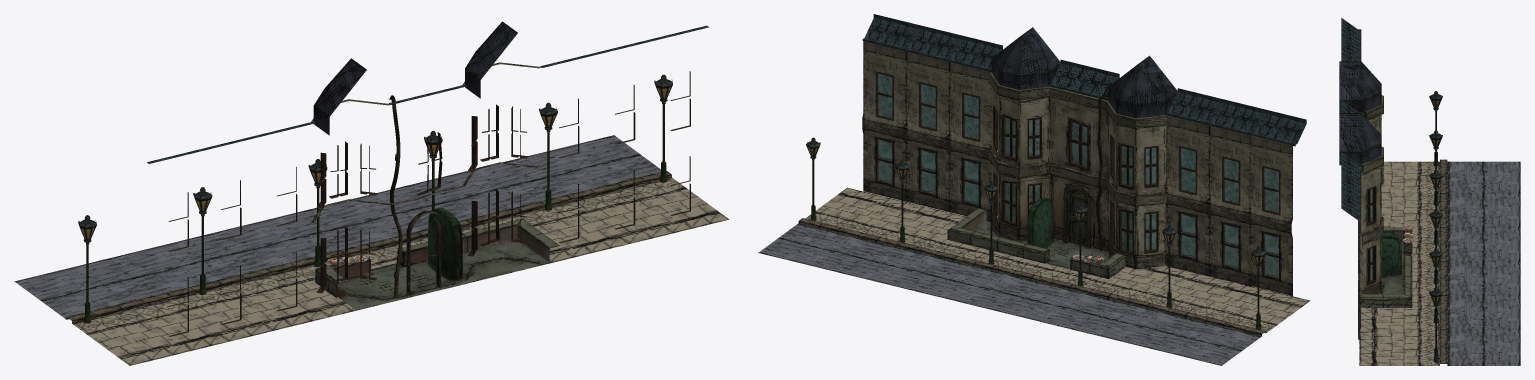
File: victorian_upper_middle_class_house.glb
3 views of the same model, side by side, from view 1: azimuth 30°, elevation 25°; view 2: azimuth 150°, elevation 25°; view 3: azimuth 270°, elevation 25° (orthographic). The views are drawn at different scales.
Parts seen in each view (by area): view 1: Plane.014, Plane.015, Cube.026, a.007, Cube.024; view 2: a.007, Plane.014, Plane.015, Cube.029, Cube.031, Cube.027, Cube.032, Cube.028, Cube.030, Cube.026, a.008, a.009 (+1 smaller); view 3: Plane.014, Plane.015, a.007, Cube.026, Cube.024, a.009, a.008, Cube.032.
Boxes of the visible parts, <box> form: Plane.014: <box>14,135,660,319</box>; Plane.015: <box>67,171,728,365</box>; Cube.026: <box>315,207,559,309</box>; a.007: <box>311,21,540,298</box>; Cube.024: <box>78,74,672,323</box>; a.007: <box>989,27,1177,269</box>; Plane.014: <box>758,223,1261,365</box>; Plane.015: <box>798,187,1310,336</box>; Cube.029: <box>905,51,949,212</box>; Cube.031: <box>1248,135,1292,295</box>; Cube.027: <box>1165,115,1209,275</box>; Cube.032: <box>862,41,906,201</box>; Cube.028: <box>1208,125,1252,286</box>; Cube.030: <box>948,62,991,221</box>; Cube.026: <box>947,198,1125,278</box>; a.008: <box>1166,88,1306,146</box>; a.009: <box>862,14,1002,72</box>; Plane.014: <box>1447,161,1520,365</box>; Plane.015: <box>1359,159,1447,365</box>; a.007: <box>1339,61,1383,293</box>; Cube.026: <box>1360,227,1412,307</box>; Cube.024: <box>1429,91,1442,362</box>; a.009: <box>1341,152,1361,220</box>; a.008: <box>1341,18,1361,61</box>; Cube.032: <box>1358,235,1362,339</box>.
Bounding box in the file's own units: 24 × 9.65 × 9.
Materials: 3 (3 with a texture image).
